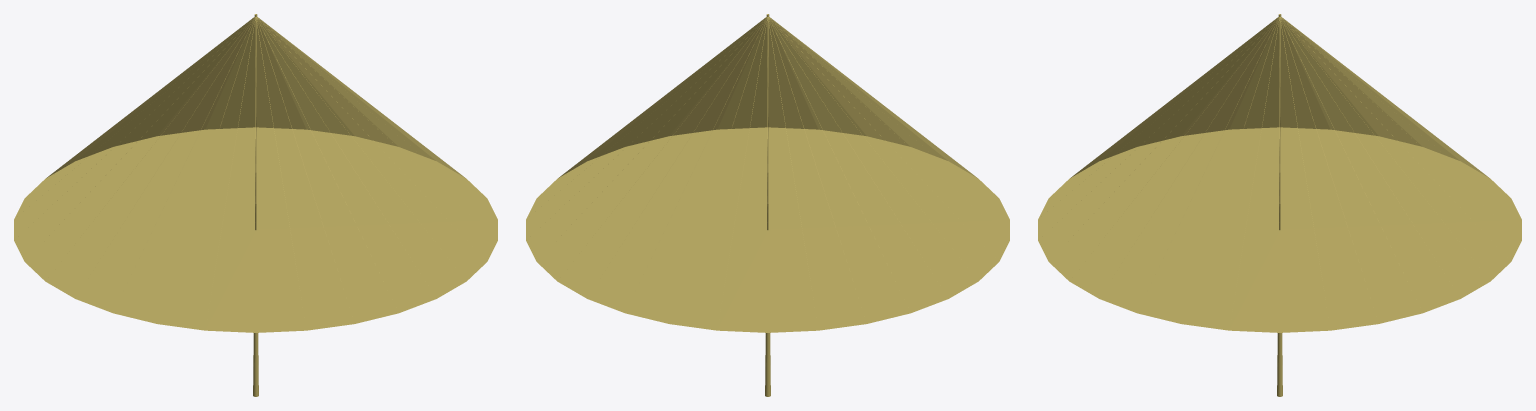
The picture shows the model from 3 angles, left to right: view 1: azimuth 30°, elevation 25°; view 2: azimuth 150°, elevation 25°; view 3: azimuth 270°, elevation 25°; orthographic projection.
Visible parts, largest first — view 1: algeomath; view 2: algeomath; view 3: algeomath.
Part boxes in pixels (bbox=[...]): algeomath: bbox=[14, 14, 497, 396]; algeomath: bbox=[526, 14, 1009, 396]; algeomath: bbox=[1038, 14, 1521, 396].
Size of the model in its own units: 8.01 by 6.93 by 7.97.
